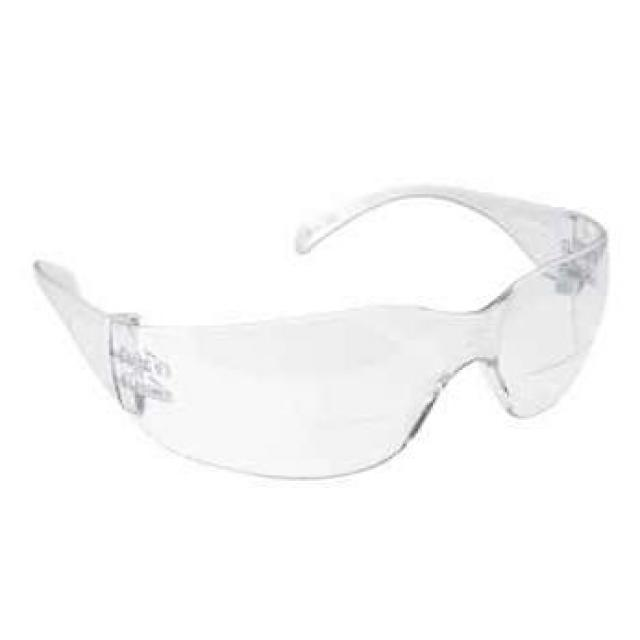Goggles: (16, 172, 640, 490)
